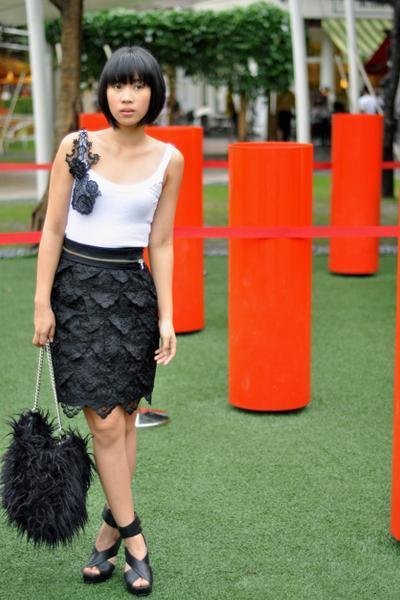bag: (0, 408, 100, 549)
shirt: (60, 130, 179, 247)
shoe: (81, 509, 164, 599)
skirt: (49, 235, 160, 419)
